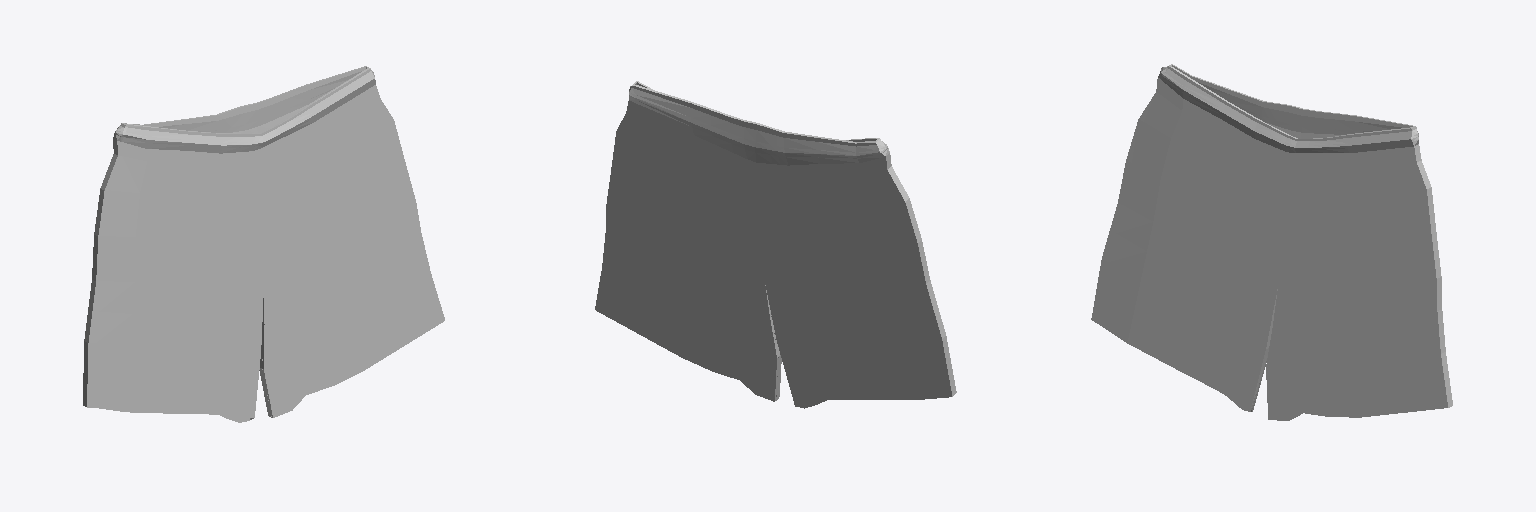
The model's file is calcao.obj.
The picture shows the model from 3 angles: view 1: azimuth 30°, elevation 25°; view 2: azimuth 150°, elevation 25°; view 3: azimuth 330°, elevation 25°; orthographic projection.
Parts seen in each view (by area): view 1: Cube; view 2: Cube; view 3: Cube.
Part boxes in pixels (x1,y1,x2,y2): Cube: (83, 66, 444, 422); Cube: (595, 81, 956, 408); Cube: (1091, 64, 1452, 420).
Bounding box in the file's own units: 3.49 × 2.86 × 0.4885.